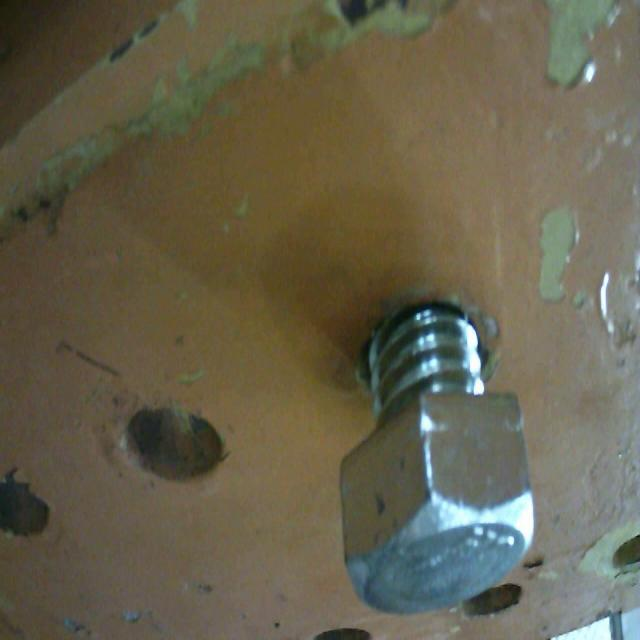Loose bolt: (339, 319, 534, 615)
Missing bolt: (122, 393, 226, 486), (1, 464, 51, 542), (465, 579, 521, 628), (613, 529, 640, 573), (314, 629, 372, 640)
Regular bolt: (339, 323, 538, 608)
